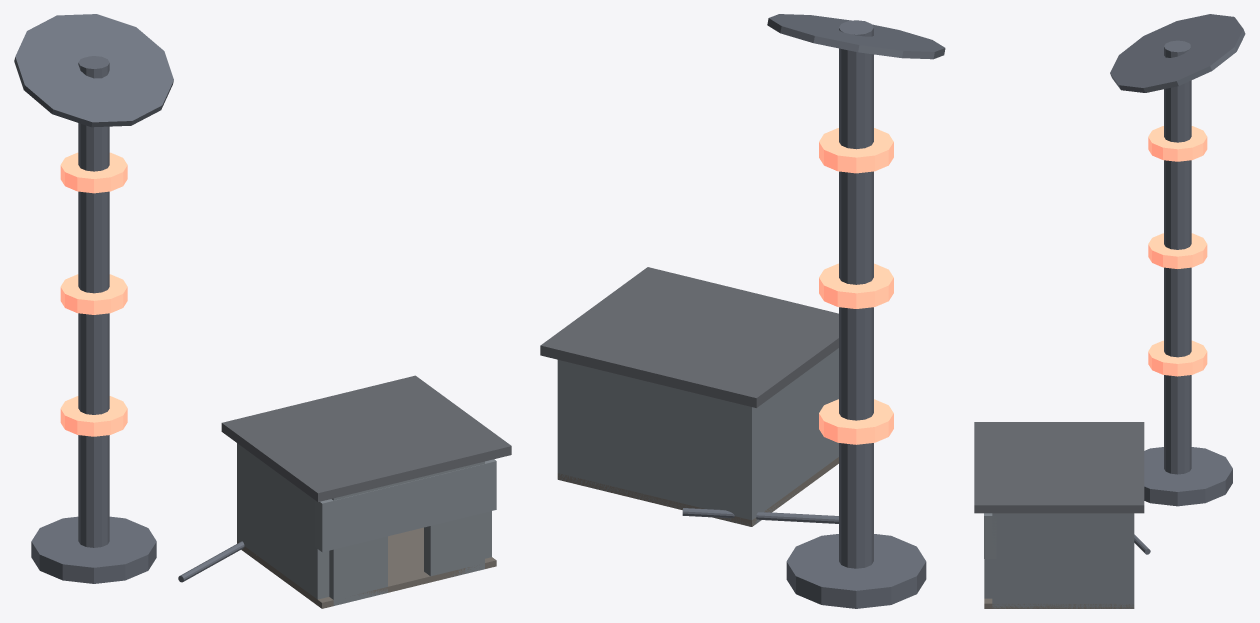
File: repeater_site.glb
The picture shows the model from 3 angles, left to right: view 1: azimuth 30°, elevation 25°; view 2: azimuth 150°, elevation 25°; view 3: azimuth 270°, elevation 25°; orthographic projection. The views are drawn at different scales.
Parts seen in each view (by area): view 1: Hut_Roof_Slab, Tower_Dish_Cap, Tower_Mast_Shaft, Wall_Fade_S_Upper, WALL_SOLID_W, Tower_Base_Plinth, WALL_SOLID_S_L, WALL_SOLID_S_R, INTERIOR_FLOOR, Tower_Power_Ring_1, Tower_Power_Ring_3, Tower_Power_Ring_2; view 2: Hut_Roof_Slab, WALL_SOLID_N, Tower_Mast_Shaft, WALL_SOLID_W, Tower_Base_Plinth, Tower_Dish_Cap, Tower_Power_Ring_1, Tower_Power_Ring_2, Tower_Power_Ring_3, INTERIOR_FLOOR, Power_Conduit_Pipe; view 3: Hut_Roof_Slab, WALL_SOLID_E, Tower_Mast_Shaft, Tower_Dish_Cap, Tower_Base_Plinth, Tower_Power_Ring_1, Tower_Power_Ring_2, Tower_Power_Ring_3, WALL_SOLID_N, INTERIOR_FLOOR, Wall_Fade_S_Upper.
Part boxes in pixels (left/top/right/bottom): Hut_Roof_Slab: left=221, top=375, right=511, bottom=501; Tower_Dish_Cap: left=14, top=14, right=173, bottom=127; Tower_Mast_Shaft: left=78, top=56, right=109, bottom=547; Wall_Fade_S_Upper: left=315, top=459, right=496, bottom=552; WALL_SOLID_W: left=241, top=446, right=329, bottom=599; Tower_Base_Plinth: left=31, top=516, right=156, bottom=583; WALL_SOLID_S_L: left=329, top=487, right=387, bottom=605; WALL_SOLID_S_R: left=424, top=461, right=484, bottom=577; INTERIOR_FLOOR: left=237, top=527, right=496, bottom=608; Tower_Power_Ring_1: left=60, top=396, right=127, bottom=436; Tower_Power_Ring_3: left=60, top=152, right=127, bottom=193; Tower_Power_Ring_2: left=60, top=274, right=127, bottom=314; Hut_Roof_Slab: left=540, top=267, right=838, bottom=407; WALL_SOLID_N: left=557, top=360, right=759, bottom=526; Tower_Mast_Shaft: left=839, top=20, right=873, bottom=568; WALL_SOLID_W: left=757, top=348, right=838, bottom=523; Tower_Base_Plinth: left=786, top=534, right=926, bottom=608; Tower_Dish_Cap: left=767, top=14, right=945, bottom=59; Tower_Power_Ring_1: left=819, top=399, right=893, bottom=444; Tower_Power_Ring_2: left=819, top=263, right=893, bottom=308; Tower_Power_Ring_3: left=819, top=128, right=893, bottom=173; INTERIOR_FLOOR: left=557, top=457, right=838, bottom=526; Power_Conduit_Pipe: left=682, top=508, right=838, bottom=523; Hut_Roof_Slab: left=974, top=422, right=1144, bottom=513; WALL_SOLID_E: left=992, top=513, right=1126, bottom=608; Tower_Mast_Shaft: left=1164, top=40, right=1191, bottom=474; Tower_Dish_Cap: left=1110, top=14, right=1245, bottom=92; Tower_Base_Plinth: left=1144, top=447, right=1232, bottom=506; Tower_Power_Ring_1: left=1148, top=340, right=1207, bottom=376; Tower_Power_Ring_2: left=1148, top=233, right=1207, bottom=268; Tower_Power_Ring_3: left=1148, top=126, right=1207, bottom=161; WALL_SOLID_N: left=1122, top=513, right=1134, bottom=608; INTERIOR_FLOOR: left=984, top=598, right=1133, bottom=608; Wall_Fade_S_Upper: left=984, top=513, right=996, bottom=558.
Bounding box in the file's own units: 9.6 × 12.69 × 6.87.
